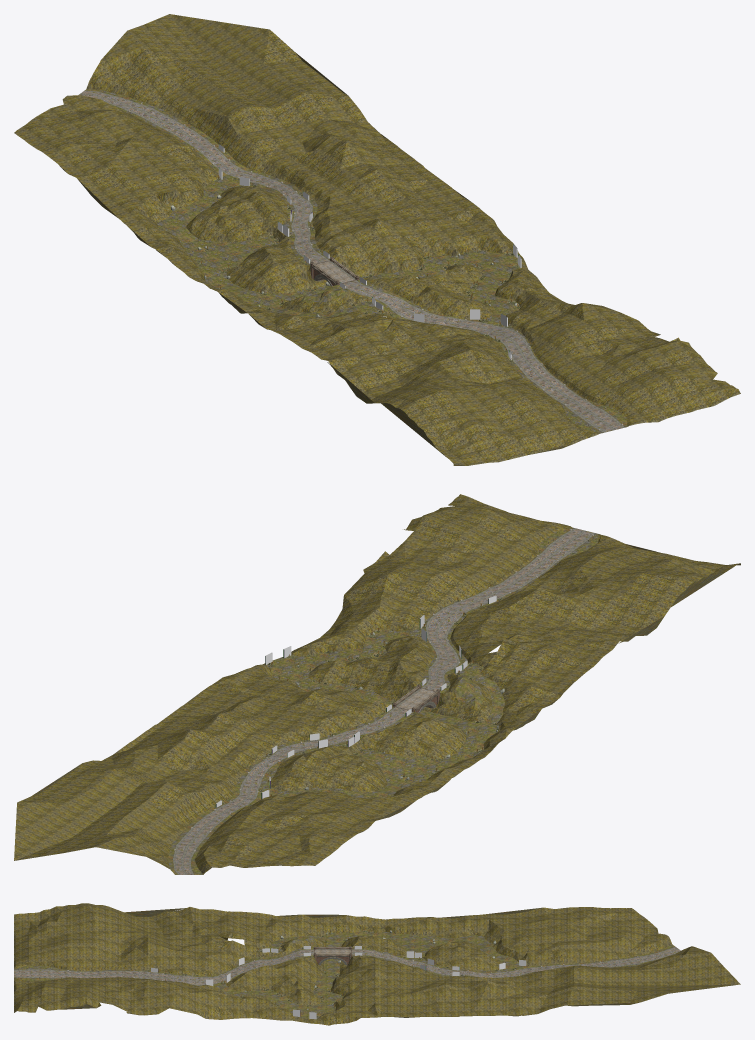
File: NorthKreuzenHighway2.obj
3 views of the same model, one above another, from view 1: azimuth 30°, elevation 25°; view 2: azimuth 150°, elevation 25°; view 3: azimuth 270°, elevation 25° (orthographic). The views are drawn at different scales.
Visible parts, largest first — view 1: Object.021, Object.029, Object.032, Object.020, Object.024, Object.000; view 2: Object.021, Object.029, Object.032, Object.020, Object.000, Object.024; view 3: Object.021, Object.029, Object.032, Object.020, Object.000, Object.024, Object.022.
Part boxes in pixels (left/top/right/bottom): Object.021: left=14, top=14, right=740, bottom=465; Object.029: left=85, top=89, right=627, bottom=433; Object.032: left=78, top=91, right=622, bottom=431; Object.020: left=80, top=90, right=624, bottom=432; Object.024: left=192, top=146, right=594, bottom=414; Object.000: left=218, top=144, right=521, bottom=360; Object.021: left=14, top=494, right=740, bottom=874; Object.029: left=168, top=527, right=598, bottom=874; Object.032: left=175, top=528, right=592, bottom=874; Object.020: left=173, top=528, right=595, bottom=874; Object.000: left=215, top=595, right=496, bottom=807; Object.024: left=222, top=550, right=574, bottom=815; Object.021: left=14, top=903, right=740, bottom=1025; Object.029: left=14, top=931, right=675, bottom=1019; Object.032: left=14, top=947, right=680, bottom=984; Object.020: left=14, top=947, right=680, bottom=985; Object.000: left=151, top=946, right=552, bottom=1019; Object.024: left=51, top=929, right=566, bottom=1017; Object.022: left=313, top=946, right=352, bottom=965.
Size of the model in its own units: 135 by 20.86 by 421.
15 materials, 15 textured.
